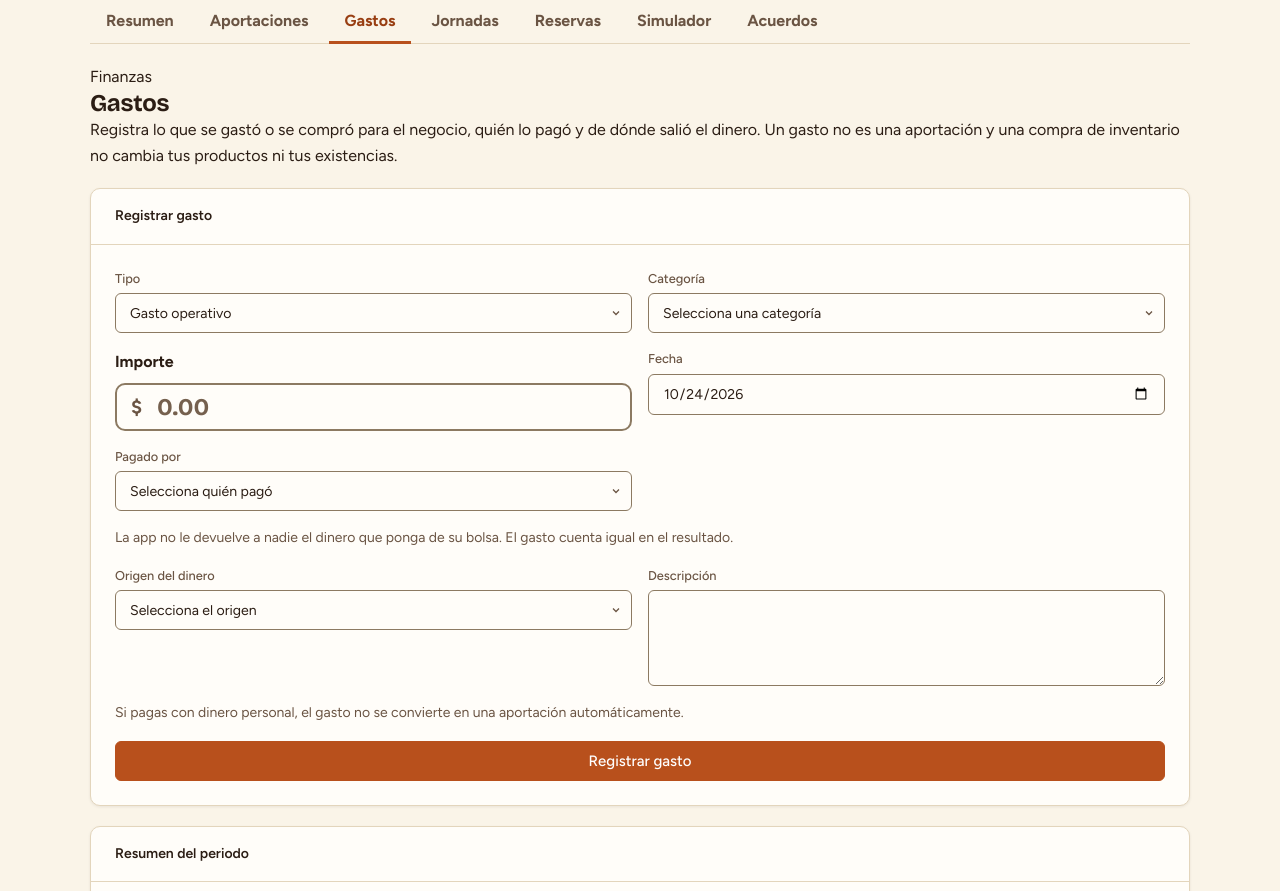
Test: expenses screen › does not save a zero amount and says what is wrong
Select "Transporte" in the dropdown with id "expense-category" at (906, 313), box x1=648 y1=293 x2=1165 y2=333
Type "450.50" into the field with id "expense-amount" at (374, 407), box x1=115 y1=383 x2=632 y2=431
Type "2026-10-01" into the date field with id "expense-date" at (906, 394), box x1=648 y1=374 x2=1165 y2=415
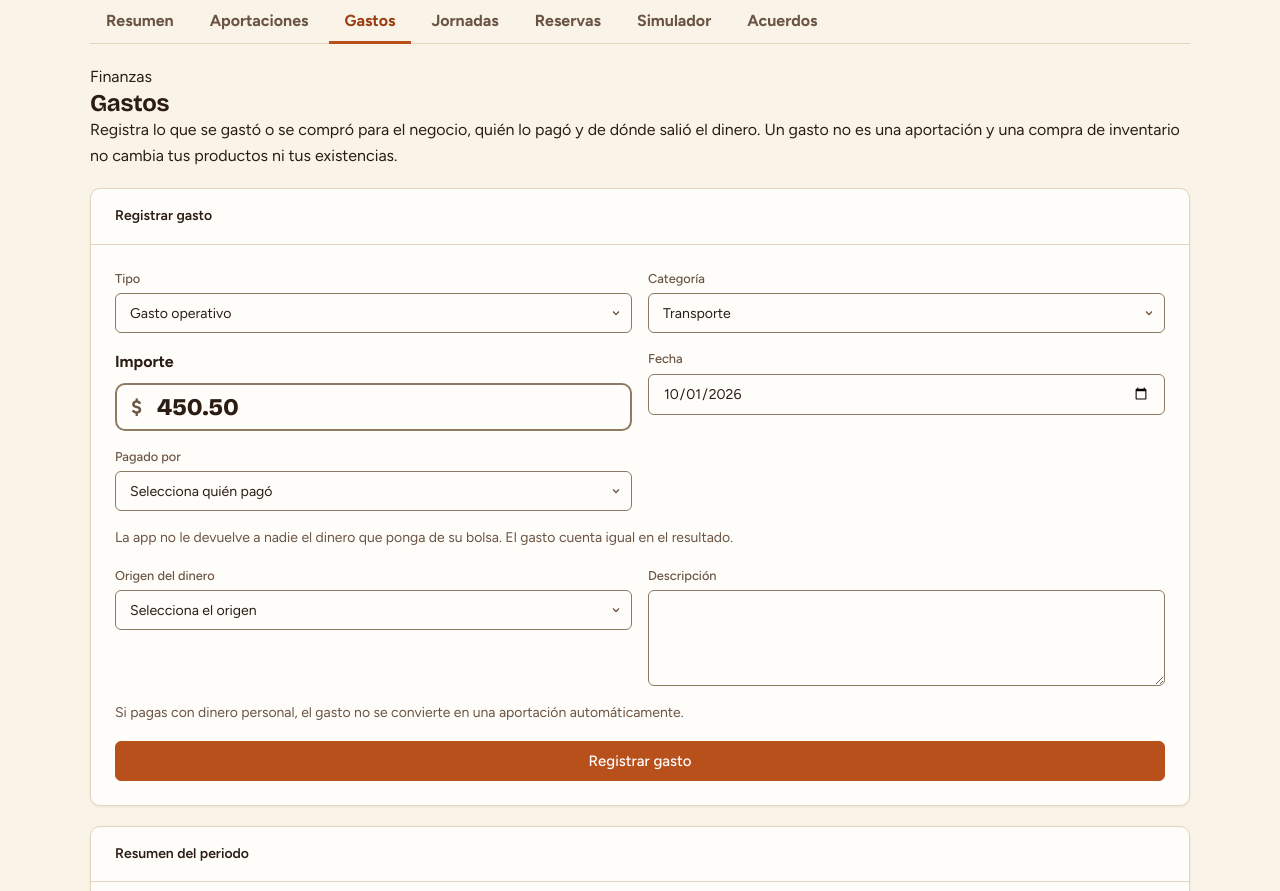
Select "Ana" in the dropdown with id "expense-payer" at (374, 491), box x1=115 y1=471 x2=632 y2=511
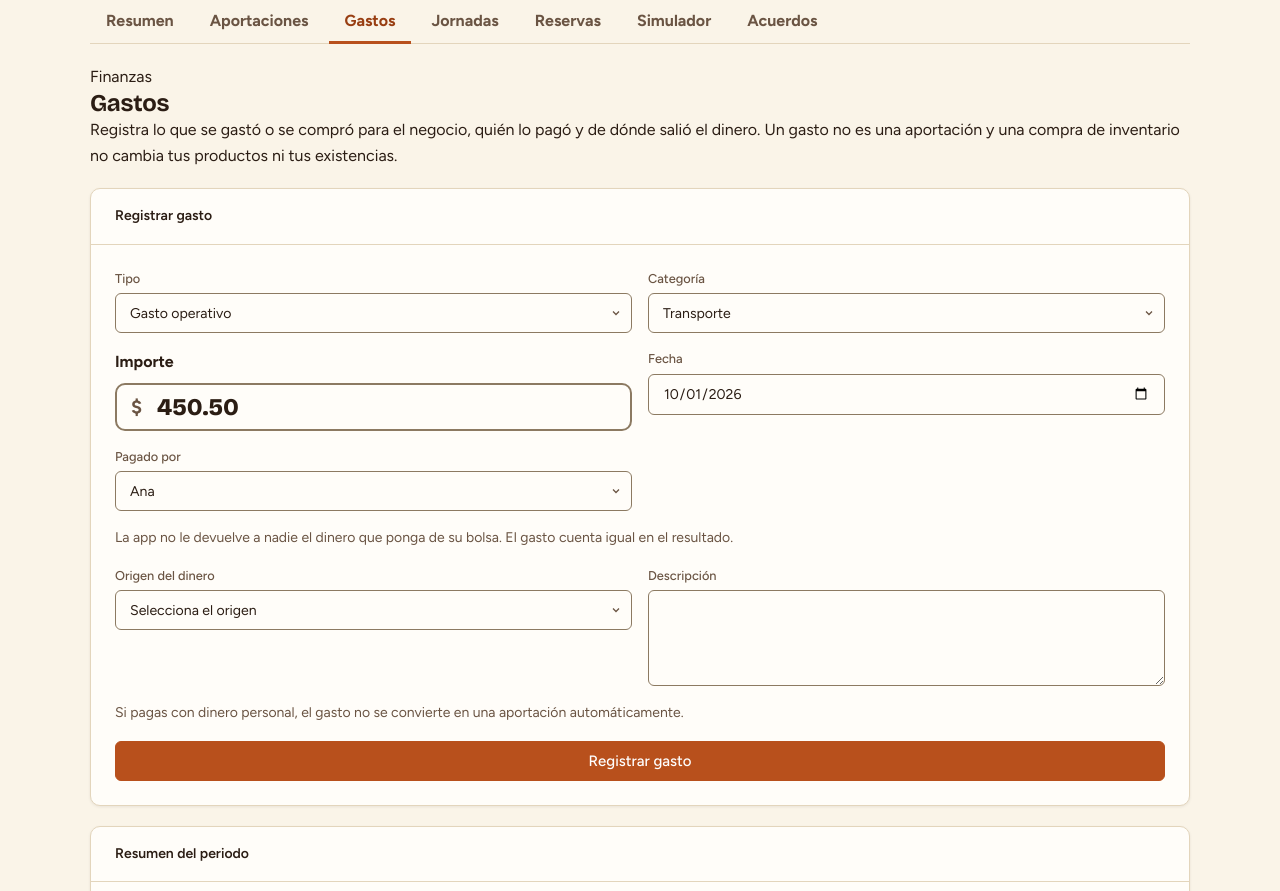
Select "Personal" in the dropdown with id "expense-funds" at (374, 610), box x1=115 y1=590 x2=632 y2=630
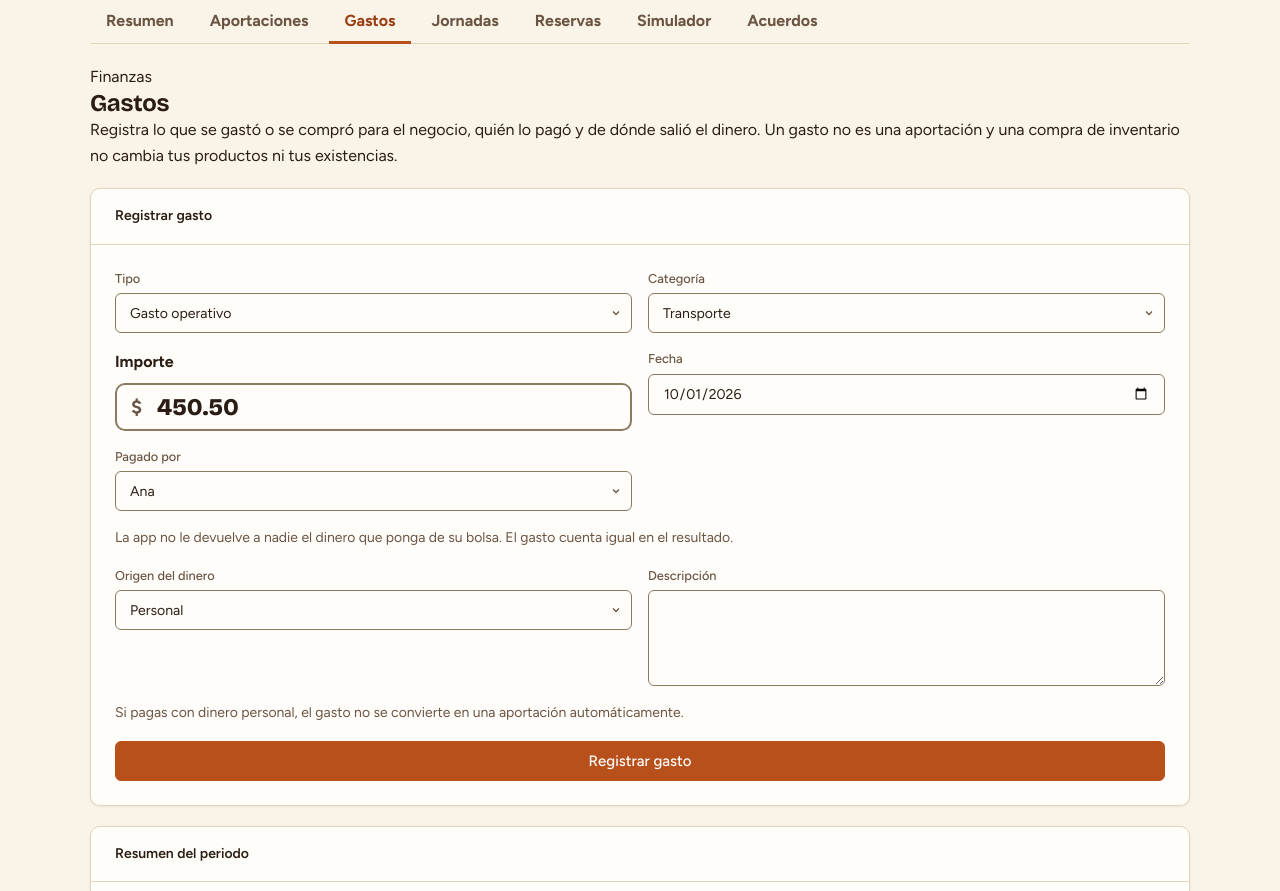
Type "  Flete del bazar  " into the text box with id "expense-description" at (906, 638), box x1=648 y1=590 x2=1165 y2=686
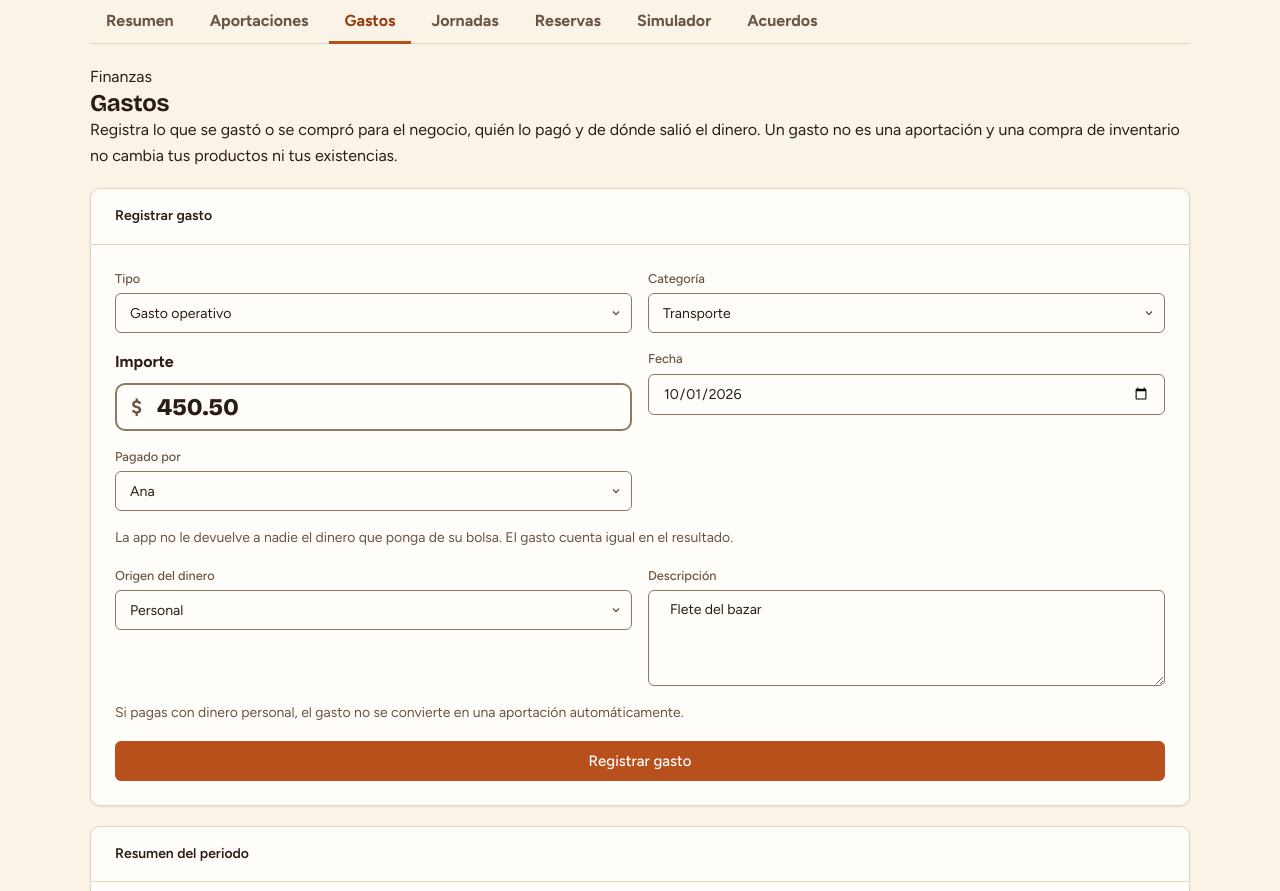
Replace the text in the field with id "expense-amount" with "0" at (374, 407), box x1=115 y1=383 x2=632 y2=431
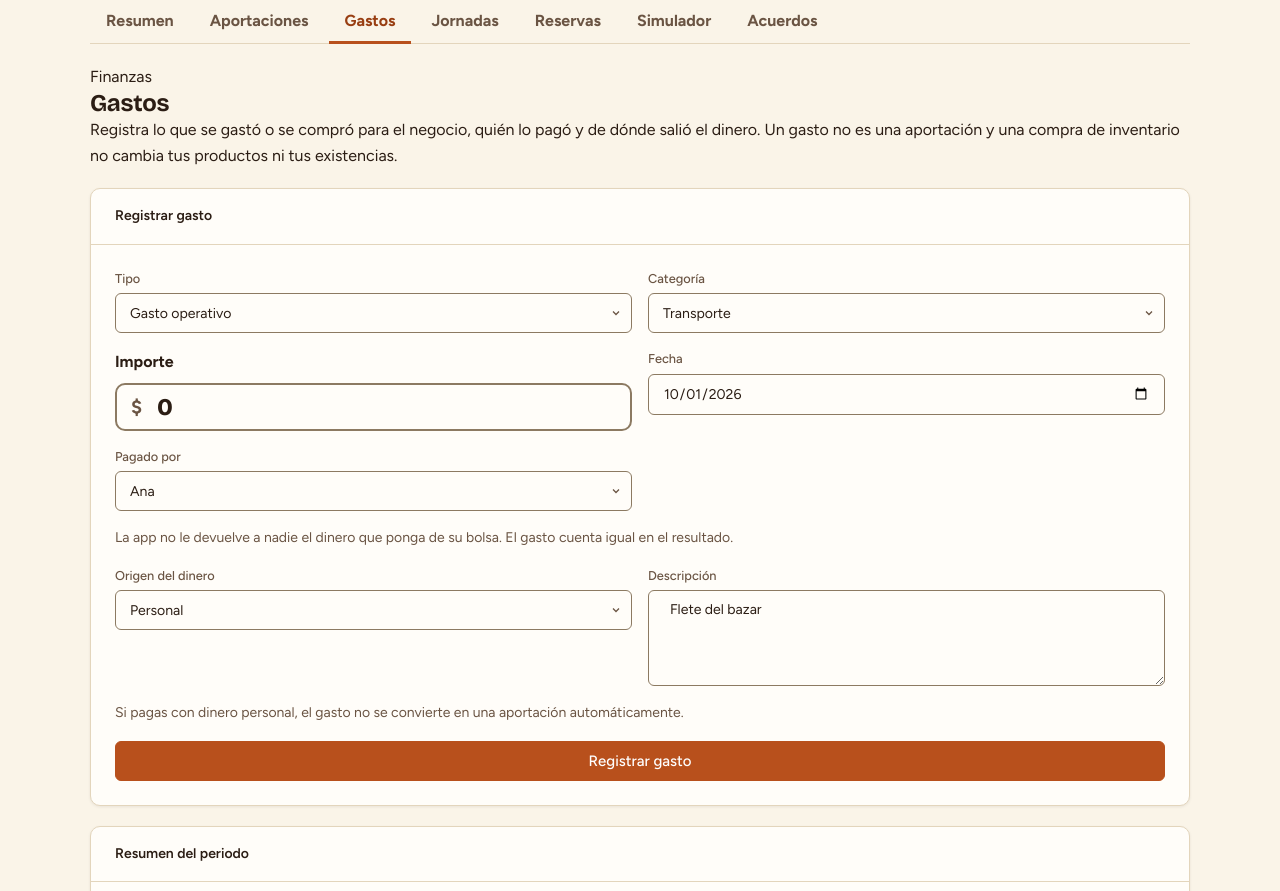
Submit the form with test id "create-form", box x1=115 y1=269 x2=1165 y2=781
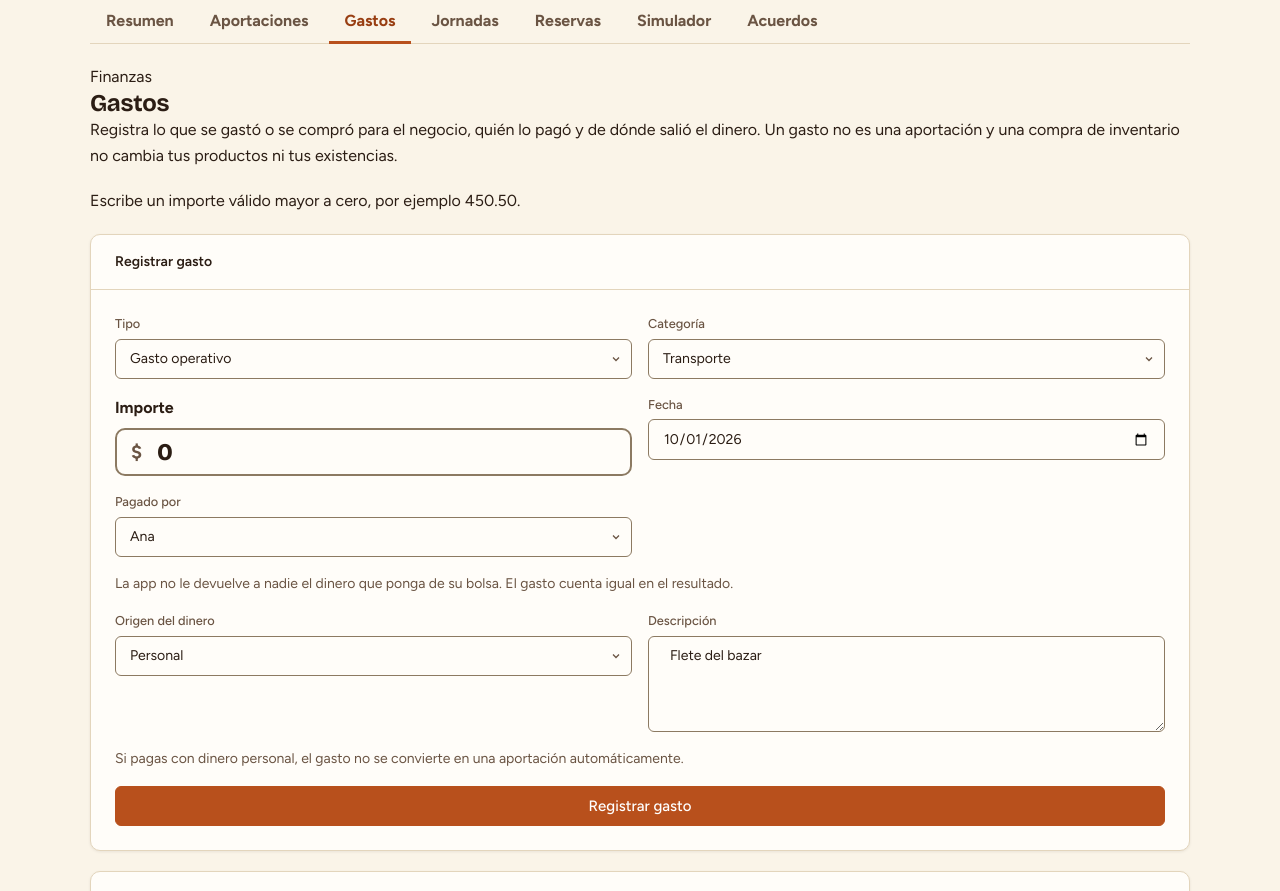
Expected: the message "Escribe un importe válido mayor a cero, por ejemplo 450.50." is shown, x1=90 y1=191 x2=520 y2=210
